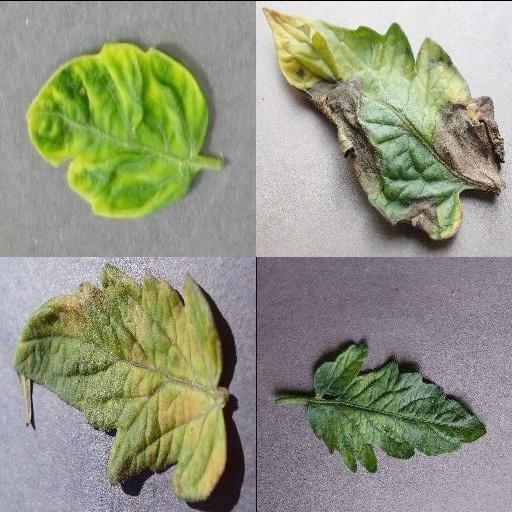Late Blight: (261, 6, 507, 240)
Leaf Mold: (12, 263, 226, 500)
Mosaic Virus: (304, 341, 488, 474)
Yellow Leaf Curl Virus: (24, 39, 208, 217)
